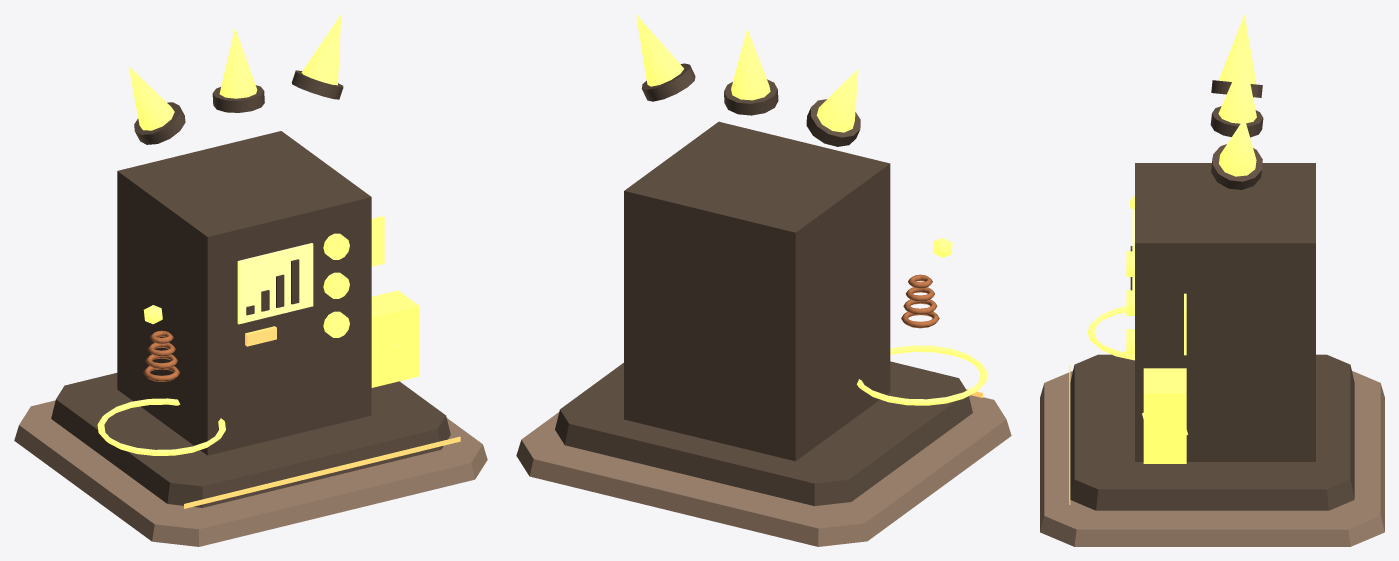
The model's file is FurnaceEngineDropper_Roblox.fbx.
The picture shows the model from 3 angles, left to right: view 1: azimuth 30°, elevation 25°; view 2: azimuth 150°, elevation 25°; view 3: azimuth 270°, elevation 25°; orthographic projection. The views are drawn at different scales.
Visible parts, largest first — view 1: DarkPlate, SteelPlate, CoreGlow, Crystal, Screen.001, AccentNeon, Copper; view 2: DarkPlate, SteelPlate, CoreGlow, Copper; view 3: DarkPlate, SteelPlate, CoreGlow, Crystal.
Boxes of the visible parts, box(x1,y1,x2,y2) form: DarkPlate: box(51, 70, 450, 507); SteelPlate: box(14, 400, 487, 546); CoreGlow: box(97, 14, 384, 455); Crystal: box(371, 290, 419, 387); Screen.001: box(237, 243, 313, 324); AccentNeon: box(184, 326, 460, 508); Copper: box(143, 330, 180, 381); DarkPlate: box(555, 63, 972, 505); SteelPlate: box(516, 395, 1011, 546); CoreGlow: box(636, 14, 987, 405); Copper: box(901, 274, 939, 328); DarkPlate: box(1070, 80, 1354, 510); SteelPlate: box(1040, 371, 1384, 546); CoreGlow: box(1087, 14, 1256, 360); Crystal: box(1143, 368, 1186, 463).
Size of the model in its own units: 920 by 1149 by 800.
